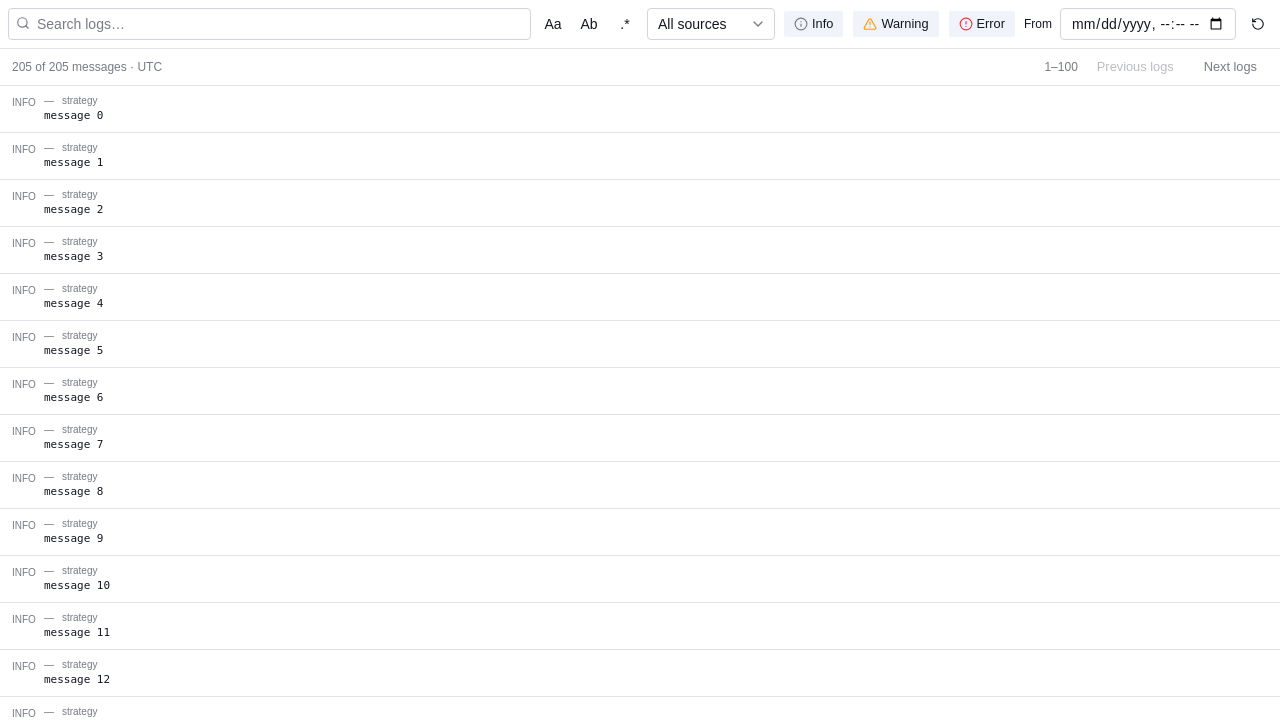
Test: UI-L09: long saved logs are paged without hiding the total or losing messages
Click the button "Next logs" at (1230, 67), box [1193,53,1268,81]
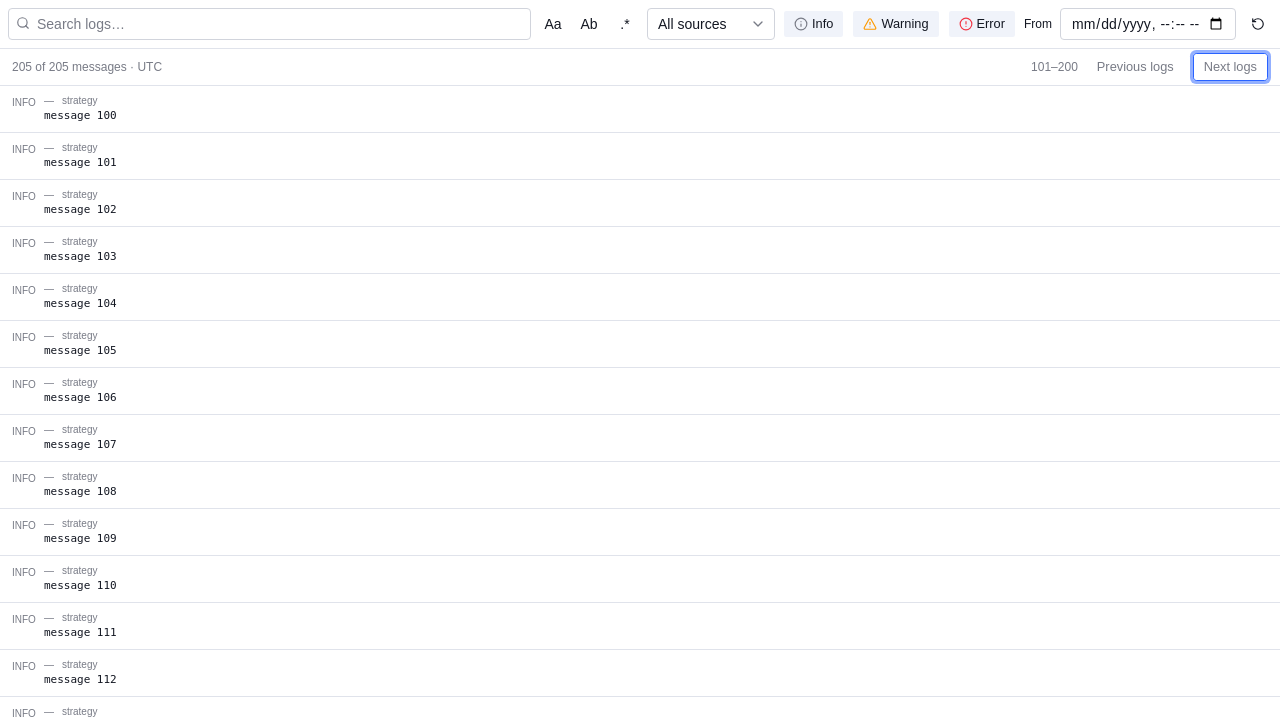
Check: the text "message 100" is shown, box [44,109,117,122]
Click the button "Next logs" at (1230, 67), box [1193,53,1268,81]
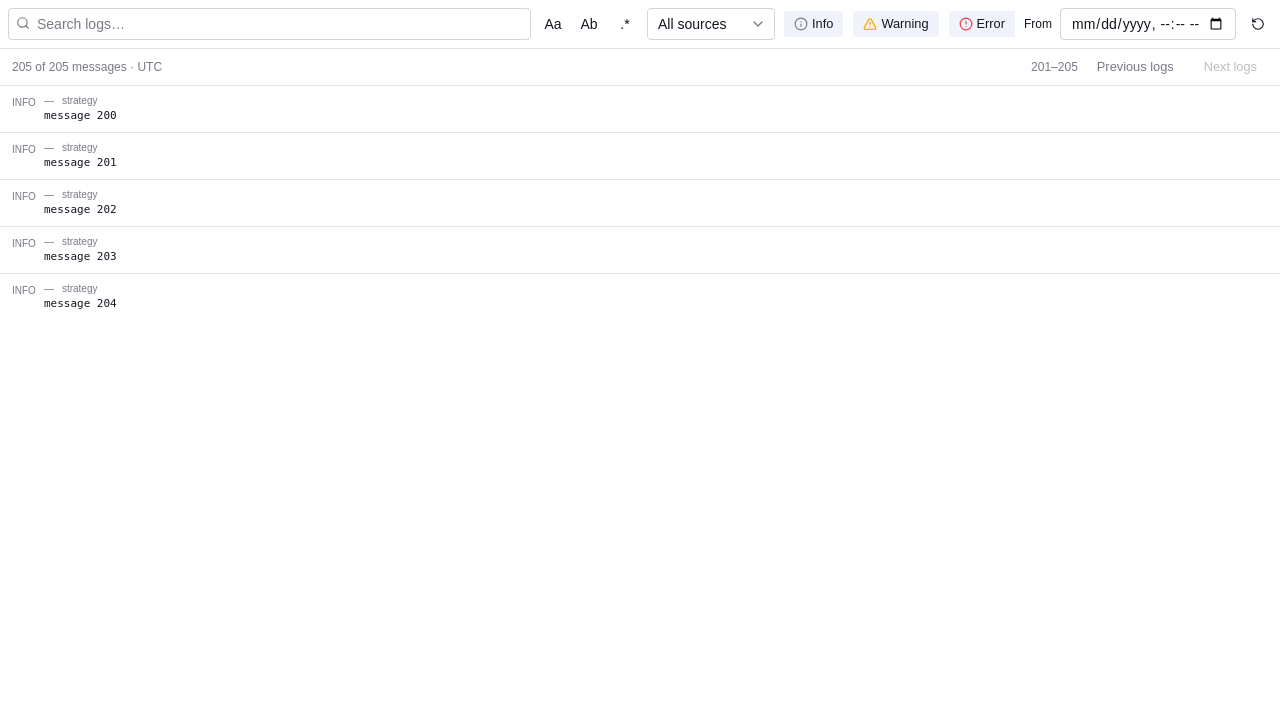
Check: the number of list items is 5, box [0,86,1279,133]; [0,133,1279,180]; [0,180,1279,227]; [0,227,1279,274]; [12,283,117,310]
Check: the button "Next logs" is disabled, box [1193,53,1268,81]
Click the button "Previous logs" at (1135, 67), box [1086,53,1185,81]
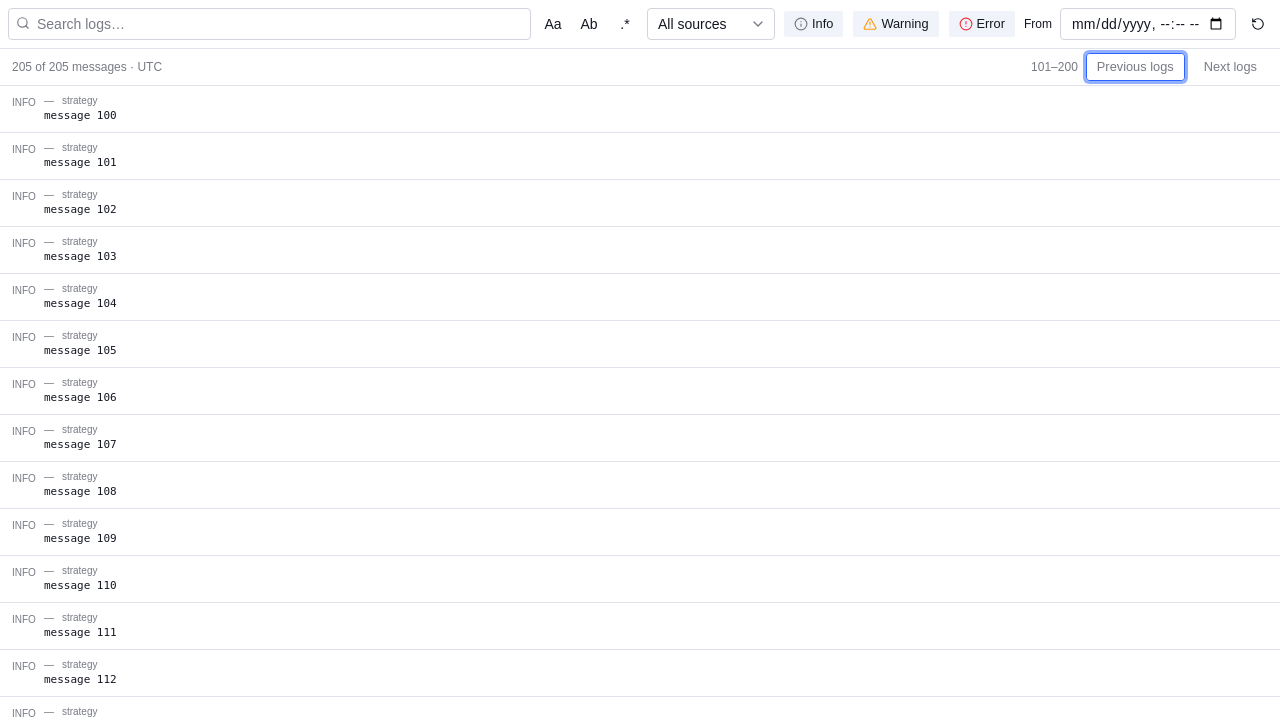
Check: the text "message 100" is shown, box [44,109,117,122]
